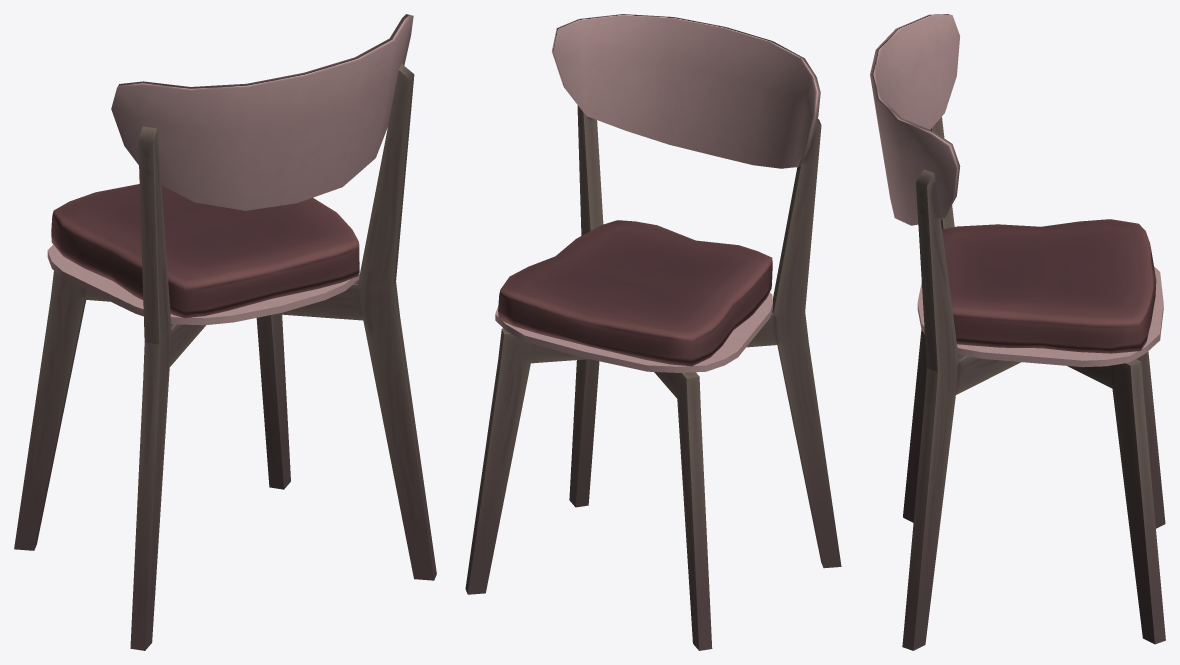
The picture shows the model from 3 angles, left to right: view 1: azimuth 30°, elevation 25°; view 2: azimuth 150°, elevation 25°; view 3: azimuth 270°, elevation 25°; orthographic projection. The views are drawn at different scales.
Parts seen in each view (by area): view 1: ChairLegs, ChairBack, Cushion, Seat; view 2: ChairLegs, ChairBack, Cushion, Seat; view 3: ChairLegs, Cushion, ChairBack, Seat.
Boxes of the visible parts, <box> form: ChairLegs: <box>14,63,436,650</box>; ChairBack: <box>111,14,413,210</box>; Cushion: <box>51,184,359,318</box>; Seat: <box>47,244,359,325</box>; ChairLegs: <box>465,105,841,650</box>; ChairBack: <box>551,14,820,168</box>; Cushion: <box>498,220,772,366</box>; Seat: <box>495,293,772,372</box>; ChairLegs: <box>902,117,1165,650</box>; Cushion: <box>942,219,1156,353</box>; ChairBack: <box>870,14,960,225</box>; Seat: <box>917,266,1163,367</box>.
Bounding box in the file's own units: 0.4533 × 0.7825 × 0.4126.
Materials: 1 (1 with a texture image).
